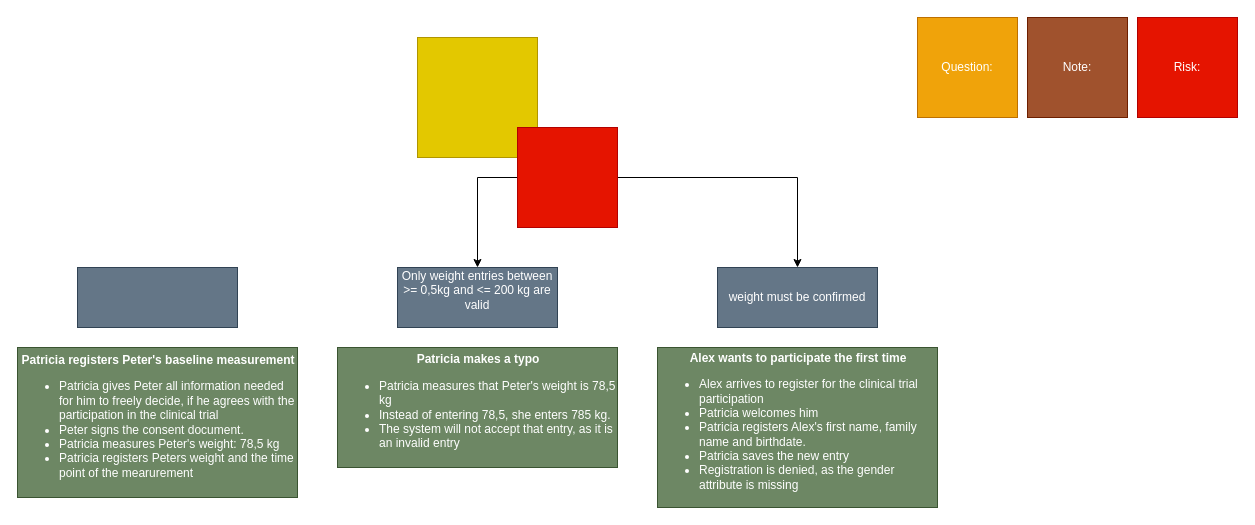
Some shapes in this 1255 by 525 pixel diagram are drawn without their labels. The shapes that lost their labels are listed below. From the top down, each one's box as (x1, y1, x2, y2) in pixels, then its label:
(416, 36, 538, 158): Baseline Measurements
(516, 126, 618, 228): Risk: Patricia enters the wrong weight
(76, 266, 238, 328): No weight entry yet
